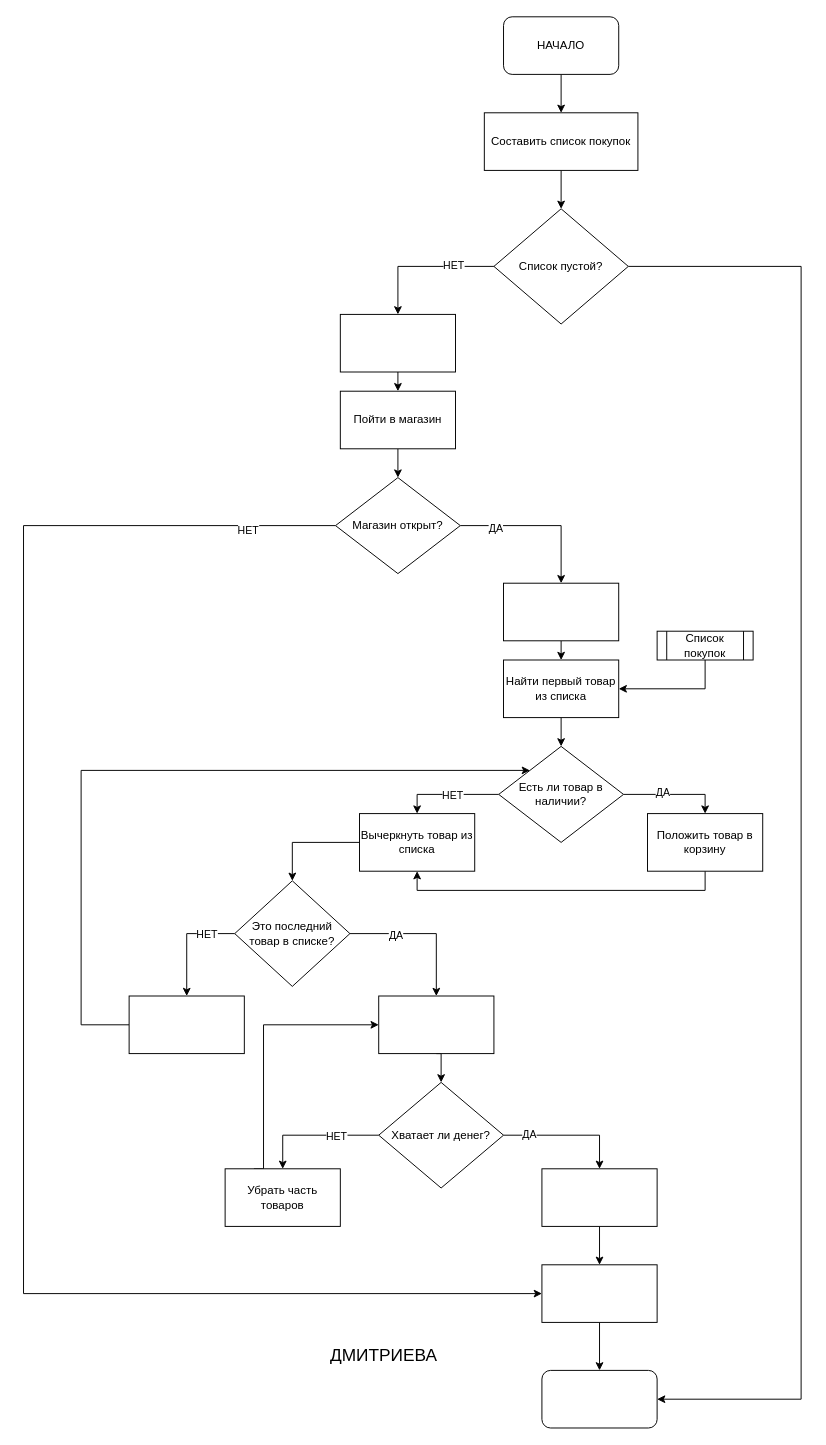
The diagram is 826 pixels wide and 1445 high, and some of its shapes have lost their labels. The box of each missing label's shape, as (x1, y1, x2, y2) in pixels:
Вернуться домой: (541, 1264, 657, 1322)
Взять деньги/карту: (339, 313, 456, 372)
Взять корзину/тележку: (503, 582, 619, 641)
КОНЕЦ: (541, 1369, 657, 1428)
Перейти к следующему товару: (128, 995, 244, 1054)
Расчитаться на кассе: (378, 995, 494, 1054)
Сложить покупки в сумку: (541, 1168, 657, 1226)
